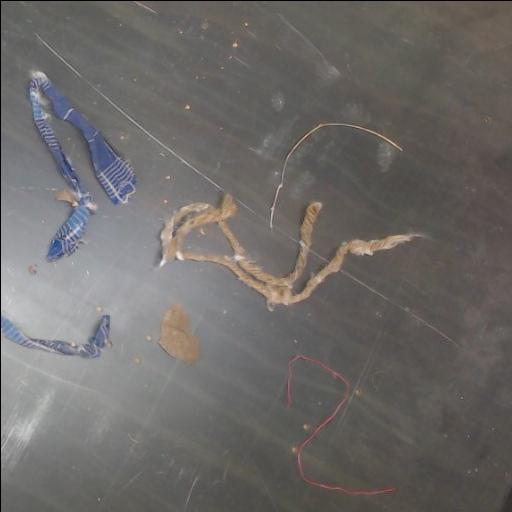cloth: (28, 71, 136, 260), (1, 314, 110, 358)
conveyor belt: (1, 1, 512, 512)
jute: (156, 194, 418, 309)
thread: (286, 354, 394, 494), (269, 122, 401, 227)
